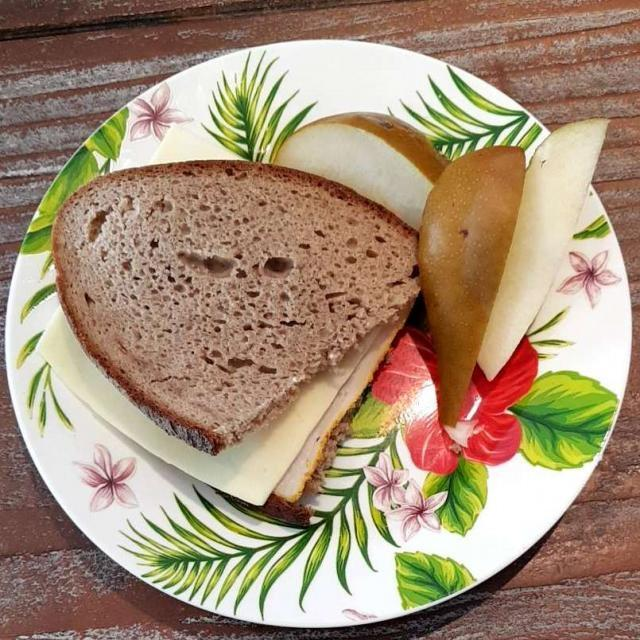bread: (58, 163, 418, 458)
cheese: (30, 306, 356, 511)
pear: (257, 110, 612, 397)
